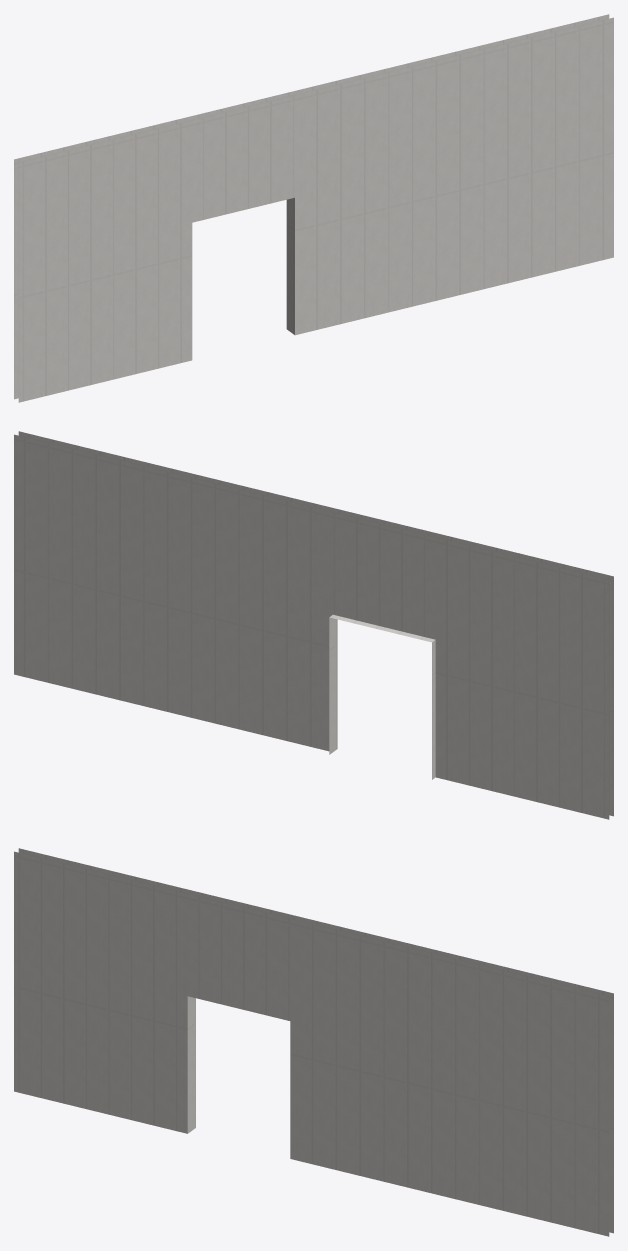
Rendered from wall_c.fbx.
3 views of the same model, one above another, from view 1: azimuth 30°, elevation 25°; view 2: azimuth 150°, elevation 25°; view 3: azimuth 330°, elevation 25° (orthographic).
Visible parts, largest first — view 1: Object237; view 2: Object237; view 3: Object237.
Boxes of the visible parts, box(x1,y1,x2,y2) form: Object237: box(14, 14, 613, 402); Object237: box(14, 431, 613, 819); Object237: box(14, 848, 613, 1236).
Bounding box in the file's own units: 1118 × 27.02 × 431.
